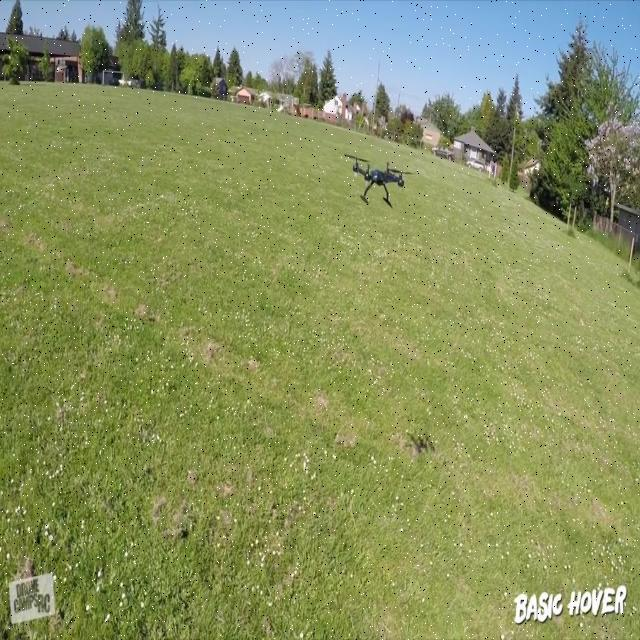UAV: (344, 154, 416, 209)
